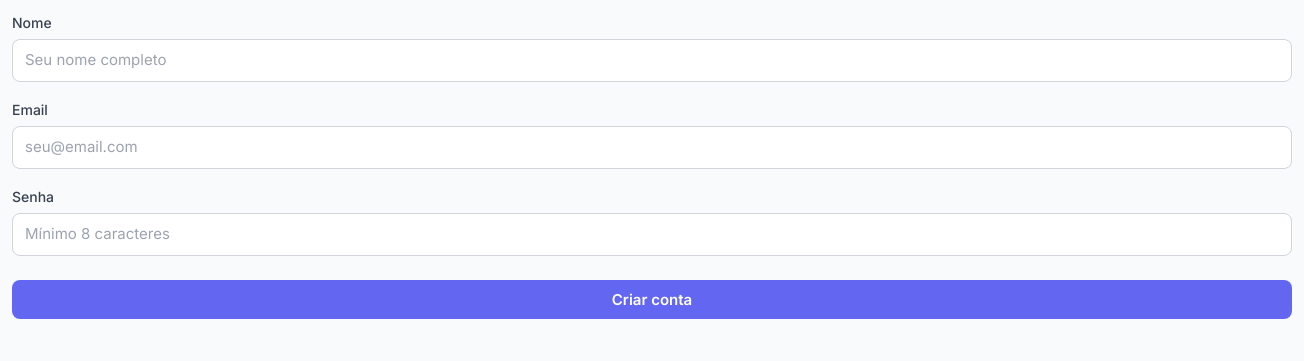
Scenario: RegisterForm › deve exibir erro se senha tiver menos de 8 caracteres
Type "João" into the field labelled "Nome". click: (652, 60)
box: [12, 39, 1292, 82]
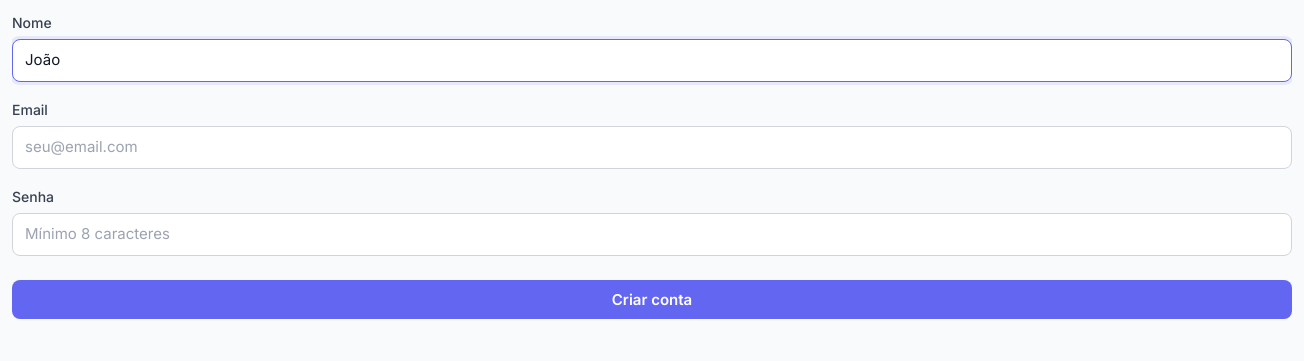
Type "joao@email.com" into the field labelled "Email". click: (652, 147)
box: [12, 126, 1292, 169]
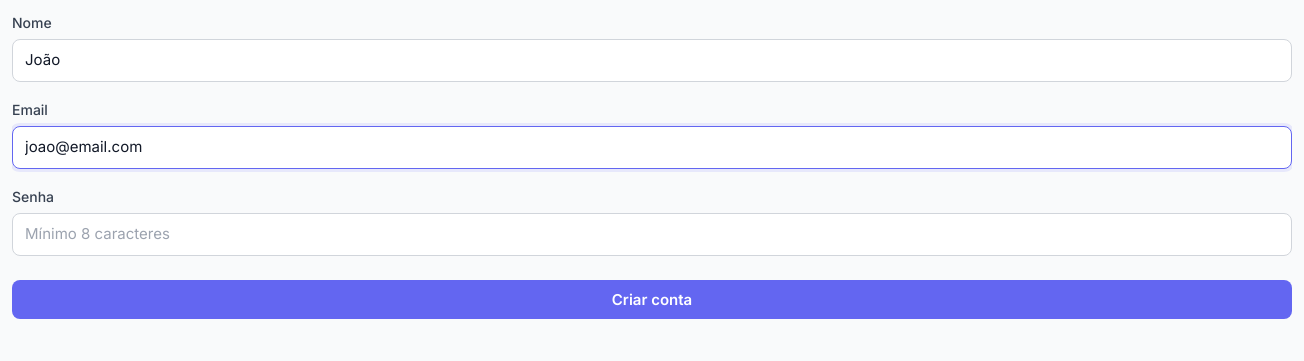
Type "123" into the password field labelled "Senha". click: (652, 234)
box: [12, 213, 1292, 256]
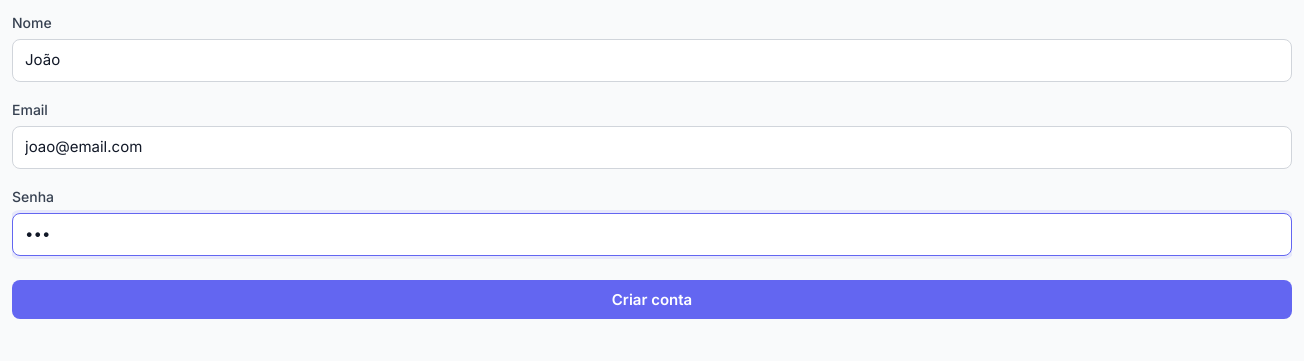
Click the button "Criar conta". click: (652, 299)
box: [12, 280, 1292, 319]
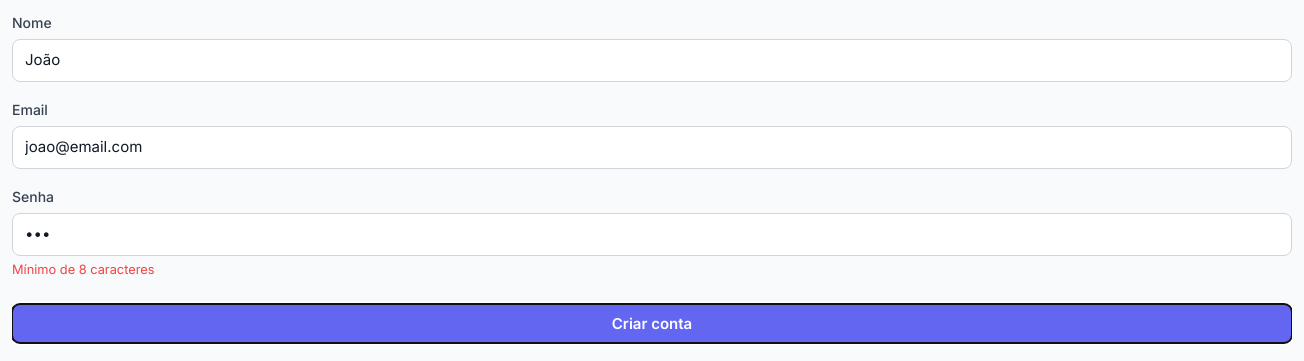
Check: the text "Mínimo de 8 caracteres" is shown, box [12, 262, 154, 278]
